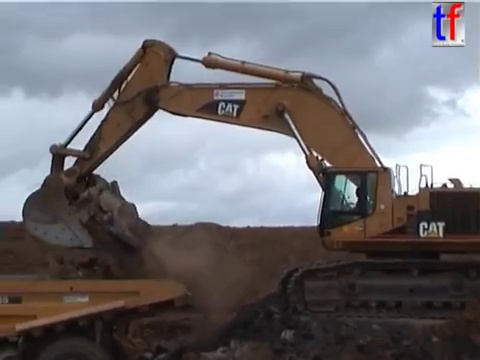excavator: (17, 35, 479, 324)
truck: (1, 270, 194, 360)
